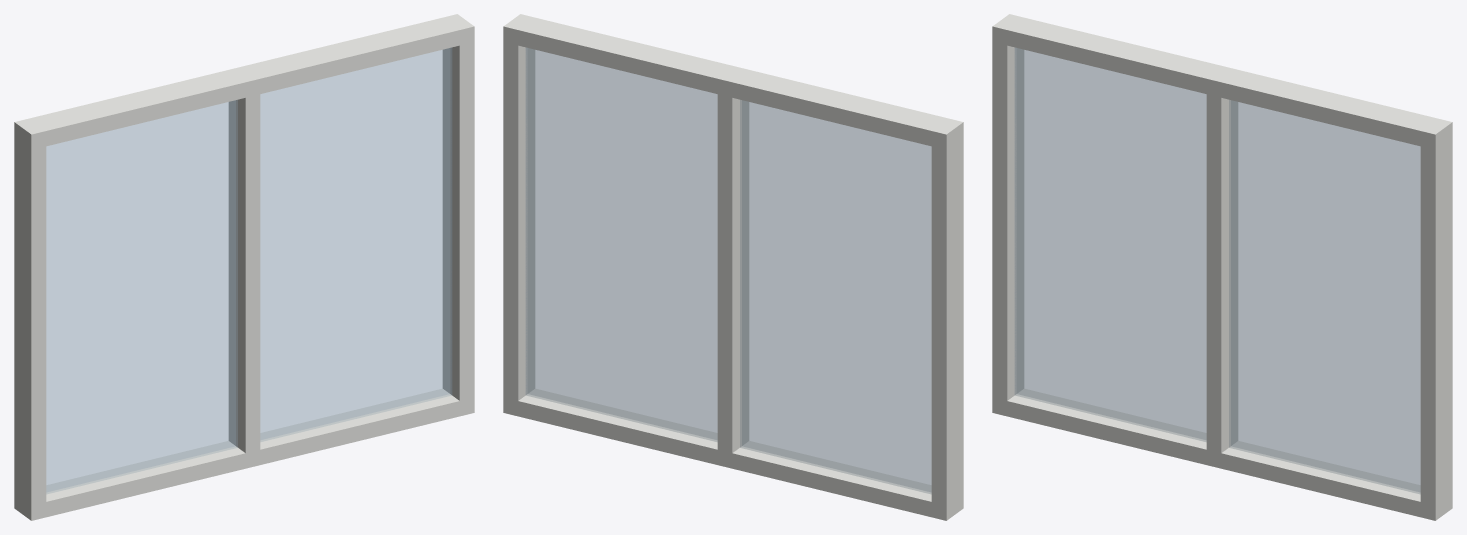
Rendered from window.obj.
3 renders of one model, left to right at view 1: azimuth 30°, elevation 25°; view 2: azimuth 150°, elevation 25°; view 3: azimuth 330°, elevation 25°, orthographic.
Parts seen in each view (by area): view 1: window_5, window_1, window_0, window_2, window_3, window_4; view 2: window_5, window_1, window_0, window_2, window_3, window_4; view 3: window_5, window_1, window_0, window_4, window_3, window_2.
Boxes of the visible parts, bbox=[...] form: window_5: bbox=[46, 47, 452, 493]; window_1: bbox=[14, 14, 474, 149]; window_0: bbox=[14, 388, 474, 520]; window_2: bbox=[14, 119, 46, 520]; window_3: bbox=[228, 71, 260, 468]; window_4: bbox=[442, 14, 474, 413]; window_5: bbox=[525, 47, 931, 493]; window_1: bbox=[503, 14, 963, 149]; window_0: bbox=[503, 388, 963, 520]; window_2: bbox=[931, 118, 963, 520]; window_3: bbox=[717, 78, 749, 468]; window_4: bbox=[503, 14, 535, 414]; window_5: bbox=[1014, 47, 1420, 493]; window_1: bbox=[992, 14, 1452, 149]; window_0: bbox=[992, 388, 1452, 520]; window_4: bbox=[1420, 118, 1452, 520]; window_3: bbox=[1206, 78, 1238, 468]; window_2: bbox=[992, 14, 1024, 414].
Size of the model in its own units: 1.5 by 1.25 by 0.1.
